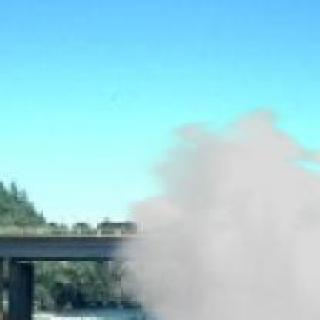smoke: (131, 114, 320, 320)
